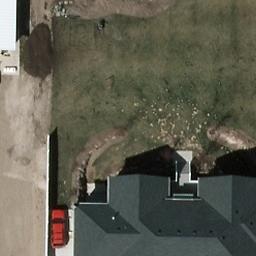car: (49, 208, 69, 249)
